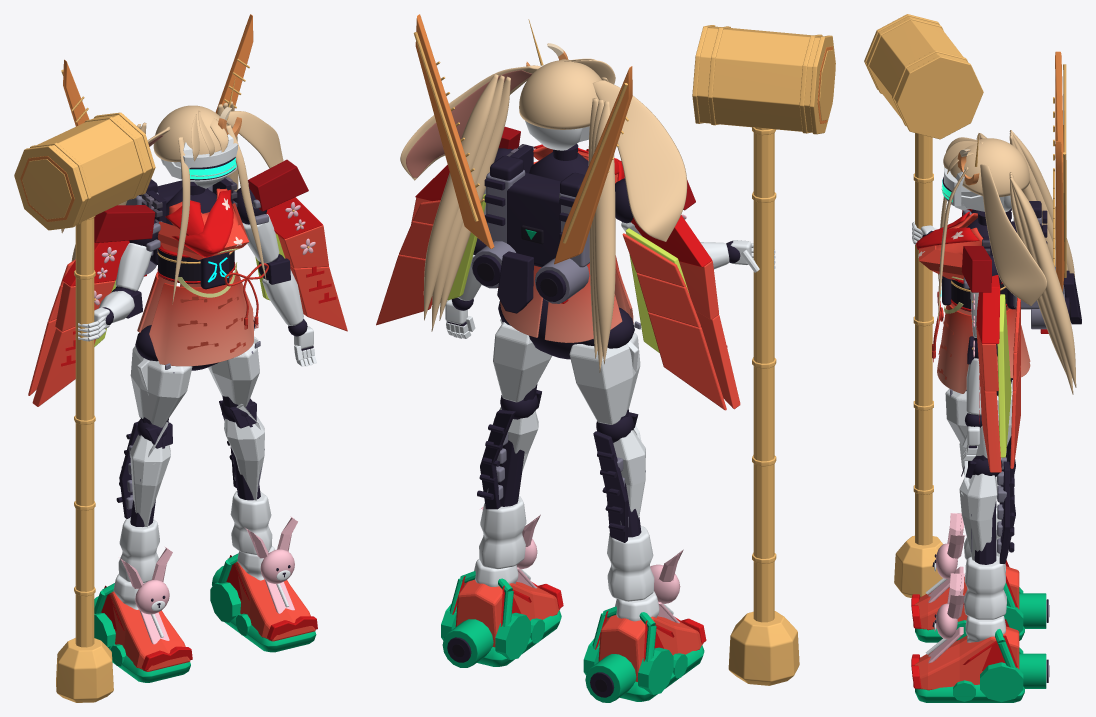
The model's file is kaguya_v4.glb.
3 renders of one model, left to right at view 1: azimuth 30°, elevation 25°; view 2: azimuth 150°, elevation 25°; view 3: azimuth 270°, elevation 25°, orthographic. The views are drawn at different scales.
Visible parts, largest first — view 1: Long hammer shaft, R3 Front open-hip wrap, Large octagonal hammer head, Faceted golden pommel, Sculpted thigh armor L, Angular bunny high-top upper L, Angular bunny high-top upper R, Tapered tibia blade shell L, R3 Contoured blonde scalp, Hammer face plate, Shoulder dark red fold L, Sleeve lower blade R (+42 smaller); view 2: Large octagonal hammer head, Long hammer shaft, R3 Sculpted drooping rabbit ear L, R3 Contoured blonde scalp, Faceted golden pommel, Sculpted thigh armor L, Backpack graphite spine, Tall gilded back fin.001, Rear coral sleeve layer L2, R3 Flowing rear hair L2, Tall gilded back fin, R3 Flowing rear hair R2 (+46 smaller); view 3: Long hammer shaft, Hammer octagonal rim.003, Large octagonal hammer head, R3 Sculpted drooping rabbit ear R, Angular bunny high-top upper R, R3 Flowing rear hair R2, R3 Contoured blonde scalp, R4 Upper sock R, R3 Front open-hip wrap, Tapered tibia blade shell R, Faceted golden pommel, Sleeve jade underside R (+44 smaller).
Boxes of the visible parts, x1,y1,x2,y2 form: Long hammer shaft: [75, 218, 94, 647]; R3 Front open-hip wrap: [149, 267, 253, 366]; Large octagonal hammer head: [31, 114, 151, 224]; Faceted golden pommel: [56, 638, 113, 702]; Sculpted thigh armor L: [130, 346, 192, 427]; Angular bunny high-top upper L: [110, 591, 190, 671]; Angular bunny high-top upper R: [235, 561, 315, 641]; Tapered tibia blade shell L: [130, 434, 170, 527]; R3 Contoured blonde scalp: [153, 105, 227, 162]; Hammer face plate: [22, 159, 71, 219]; Shoulder dark red fold L: [94, 205, 155, 242]; Sleeve lower blade R: [290, 266, 347, 331]; Large octagonal hammer head: [697, 26, 822, 132]; Long hammer shaft: [753, 127, 774, 622]; R3 Sculpted drooping rabbit ear L: [592, 80, 687, 241]; R3 Contoured blonde scalp: [519, 60, 601, 129]; Faceted golden pommel: [728, 611, 799, 685]; Sculpted thigh armor L: [569, 332, 640, 424]; Backpack graphite spine: [507, 173, 560, 267]; Tall gilded back fin.001: [415, 14, 494, 248]; Rear coral sleeve layer L2: [648, 312, 726, 410]; R3 Flowing rear hair L2: [594, 101, 615, 364]; Tall gilded back fin: [554, 66, 632, 264]; R3 Flowing rear hair R2: [423, 74, 498, 320]; Long hammer shaft: [915, 133, 932, 545]; Hammer octagonal rim.003: [896, 55, 983, 139]; Large octagonal hammer head: [866, 16, 967, 118]; R3 Sculpted drooping rabbit ear R: [980, 164, 1046, 305]; Angular bunny high-top upper R: [913, 626, 1019, 690]; R3 Flowing rear hair R2: [1010, 177, 1076, 387]; R3 Contoured blonde scalp: [950, 138, 1029, 197]; R4 Upper sock R: [964, 555, 1006, 619]; R3 Front open-hip wrap: [937, 303, 972, 393]; Tapered tibia blade shell R: [959, 473, 997, 560]; Faceted golden pommel: [894, 535, 942, 597]; Sleeve jade underside R: [997, 294, 1011, 457].
Size of the model in its own units: 4.98 by 7.75 by 2.69.
